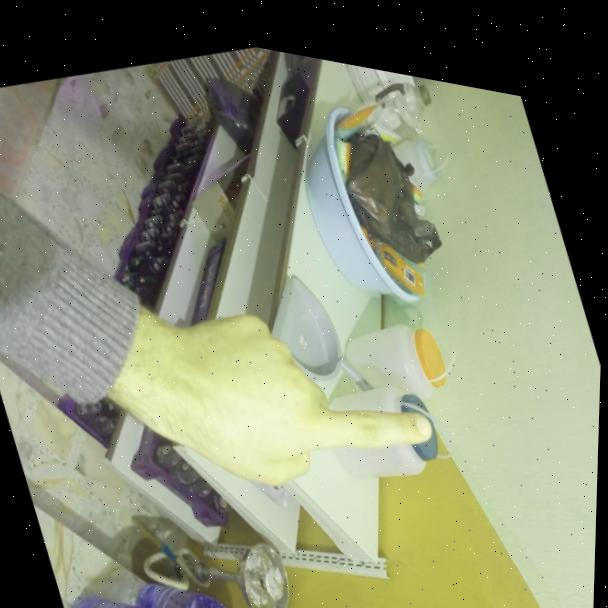one: (114, 217, 458, 545)
